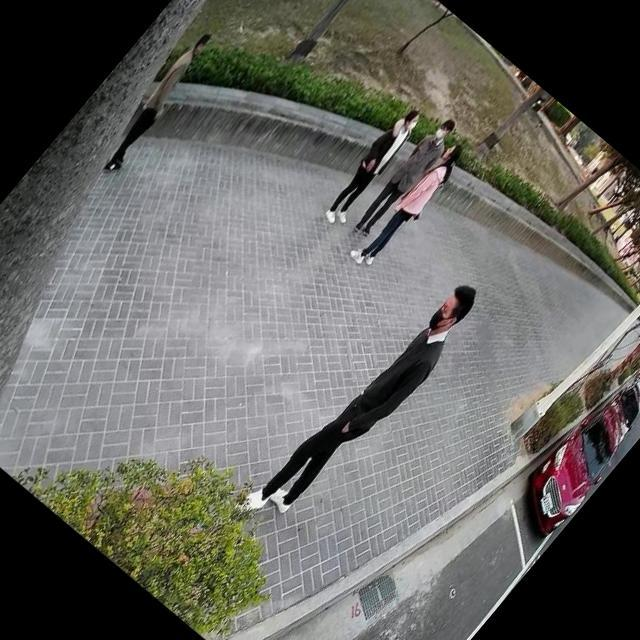person: (225, 251, 496, 554), (88, 21, 230, 182), (342, 126, 478, 280), (312, 95, 434, 232), (346, 108, 466, 244)
